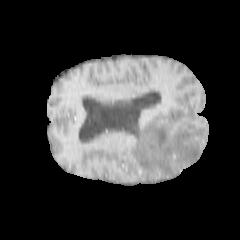glioma: (128, 109, 200, 177)
